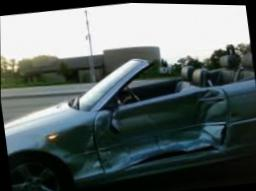Door: (90, 87, 228, 173)
Fender: (28, 109, 99, 181)
